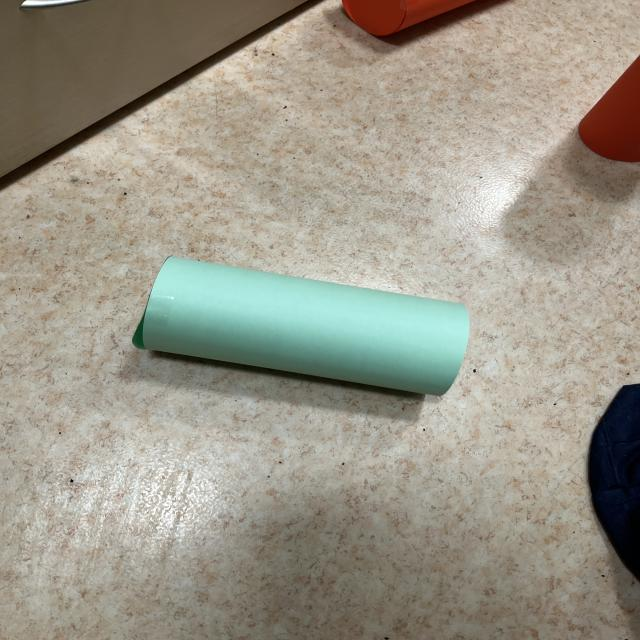meta: (132, 256, 469, 396)
